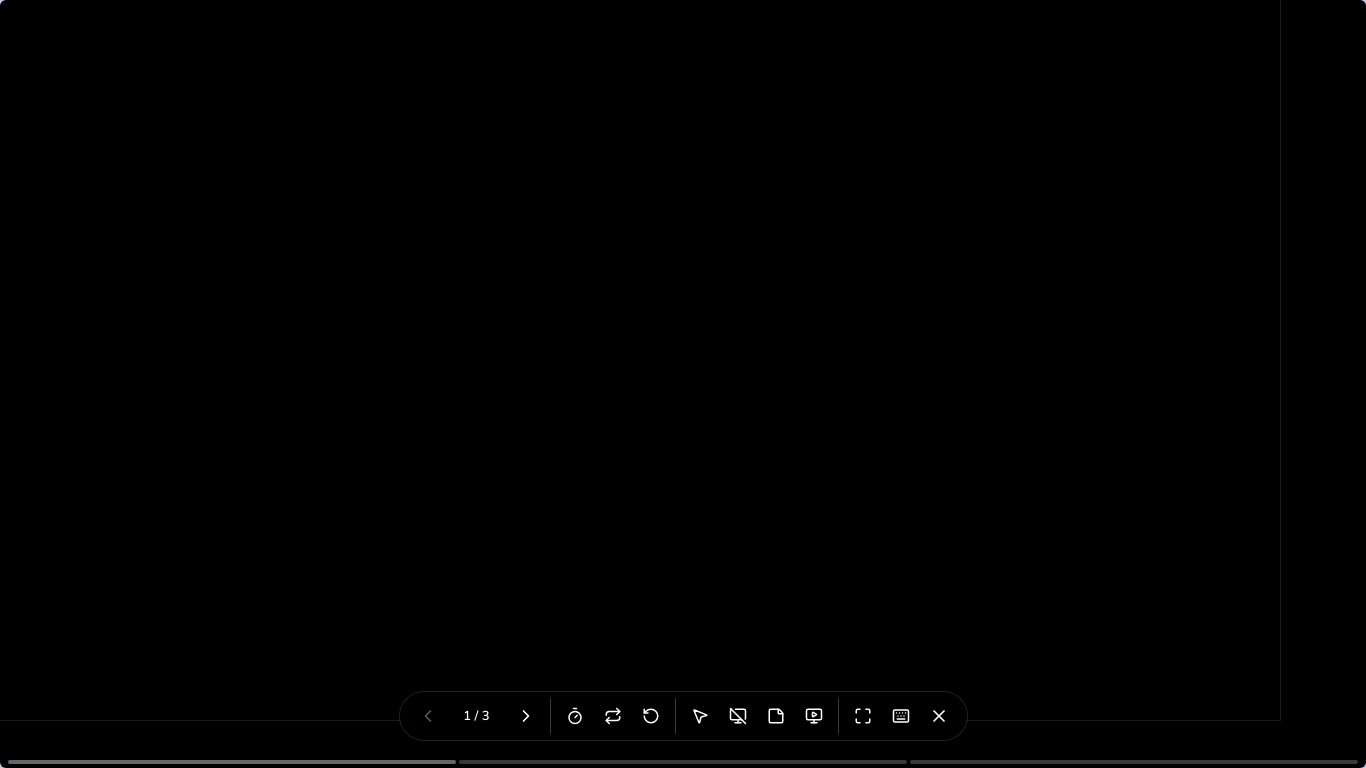
Presenter › without BroadcastChannel it says the presenter view is unavailable
Click the button with test id "present-view". click: (814, 716)
box: [796,698,832,734]
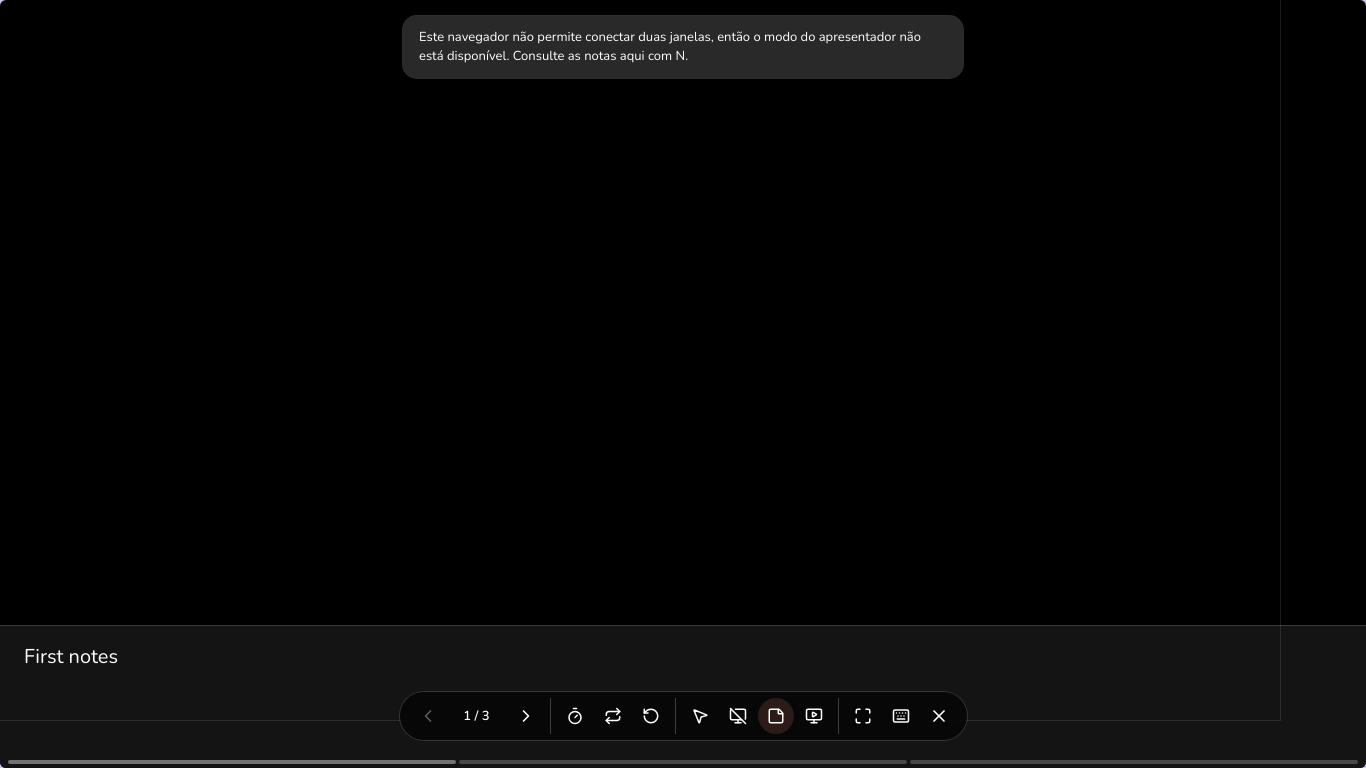
Check: the message with test id "present-message" shows "Este navegador não permite conectar duas janelas, então o modo do apresentador não está disponível. Consulte as notas aqui com N.", box [419,28,921,65]
